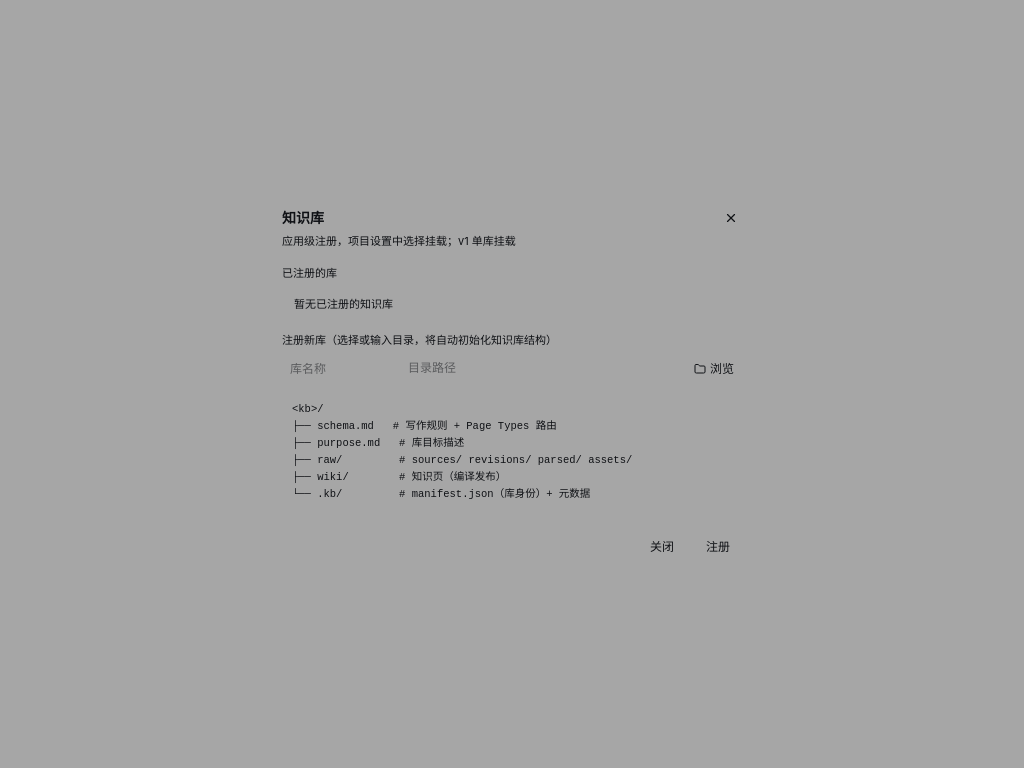
Test: KbModal › re-registers as copy with asCopy: true when clicking the hint entry
Type "副本库" into the field with placeholder "库名称".
click(338, 369); type("副本库")  # box [282,355,394,383]
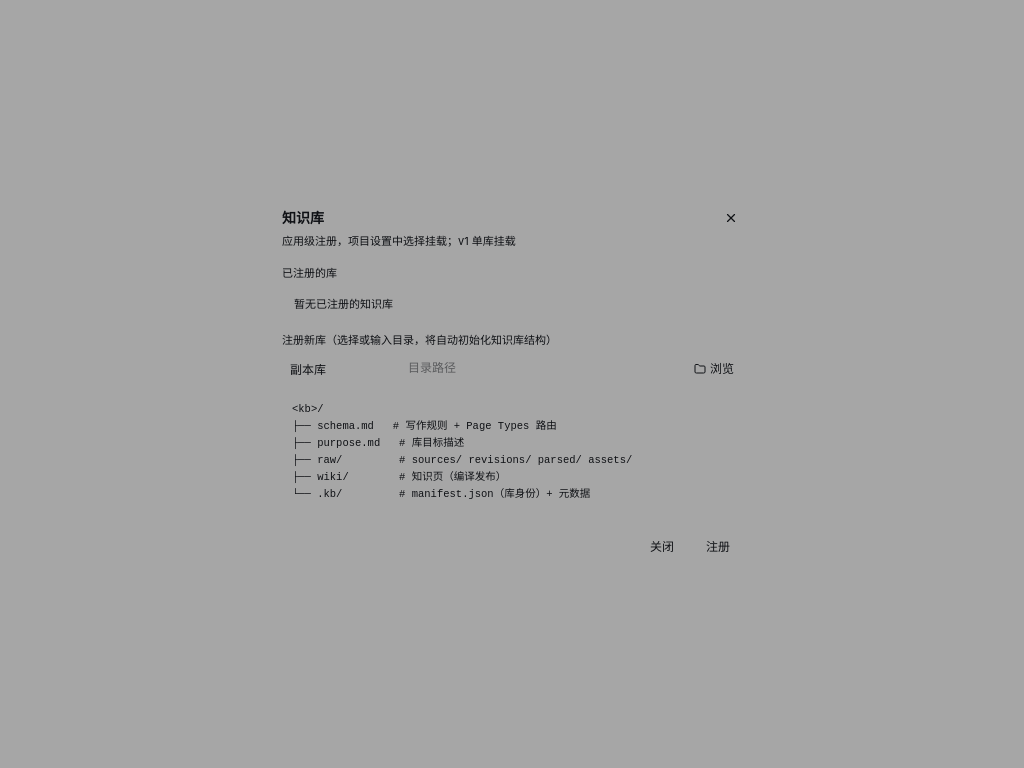
Type "E:\\copy\\kb" into the field with placeholder "目录路径".
click(540, 369); type("E:\\copy\\kb")  # box [400,355,680,383]
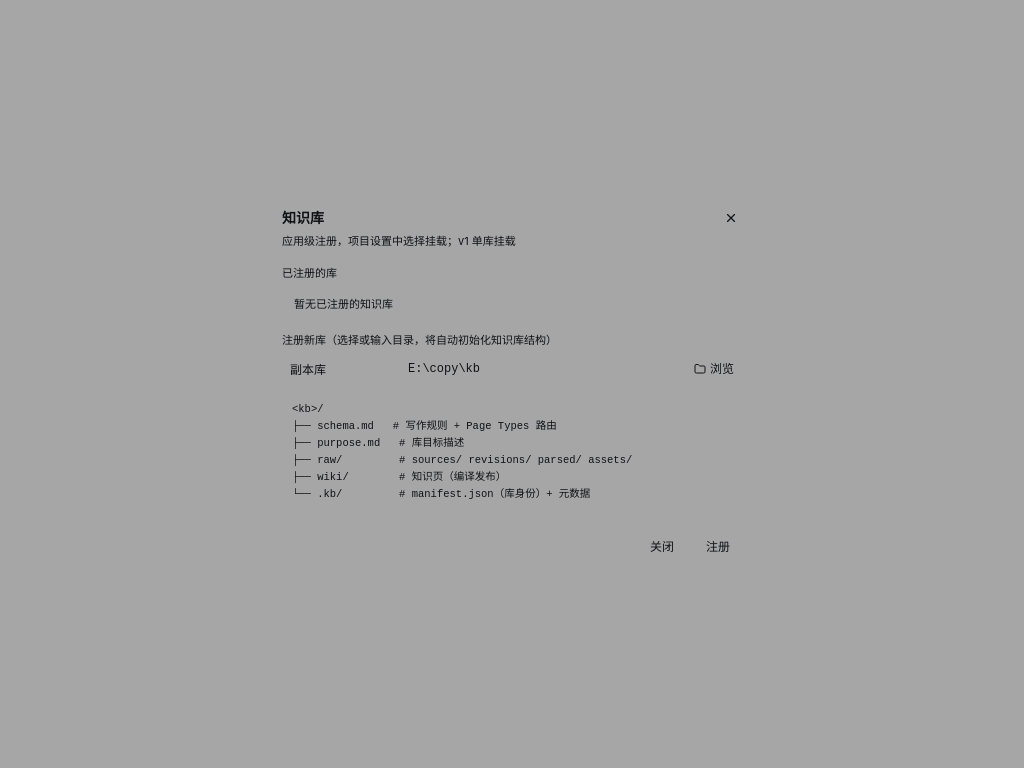
Click the button "注册".
click(718, 547)  # box [694,533,742,561]
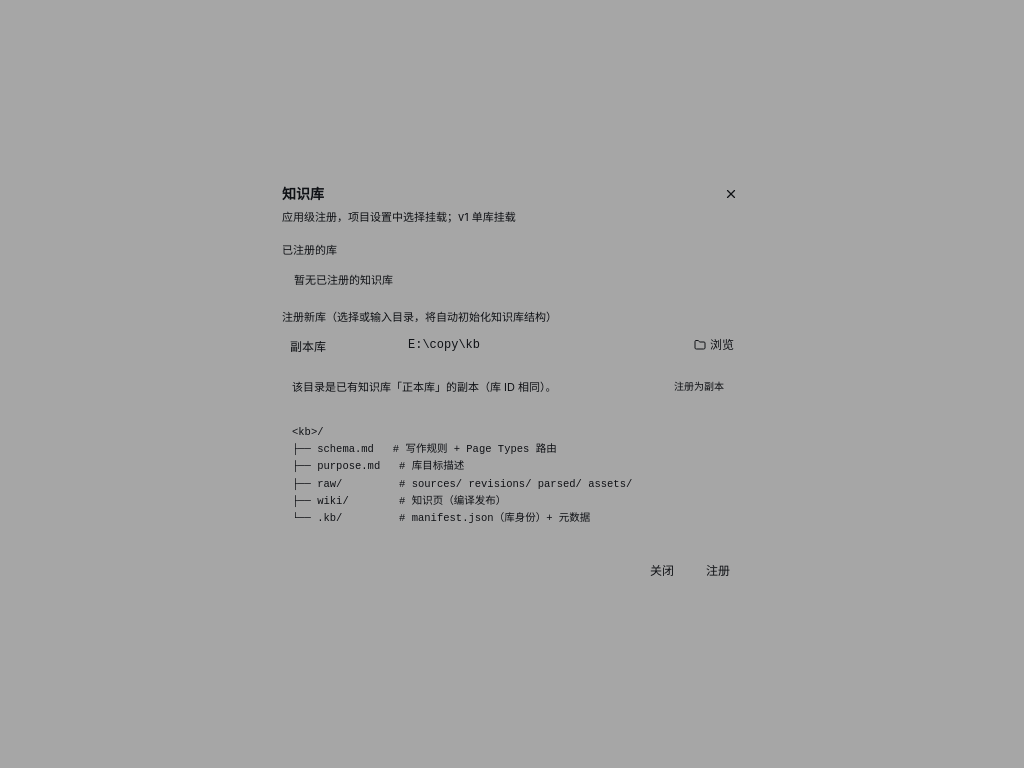
expect the button "注册为副本" is shown: met
Click the button "注册为副本".
click(699, 387)  # box [666,375,732,398]
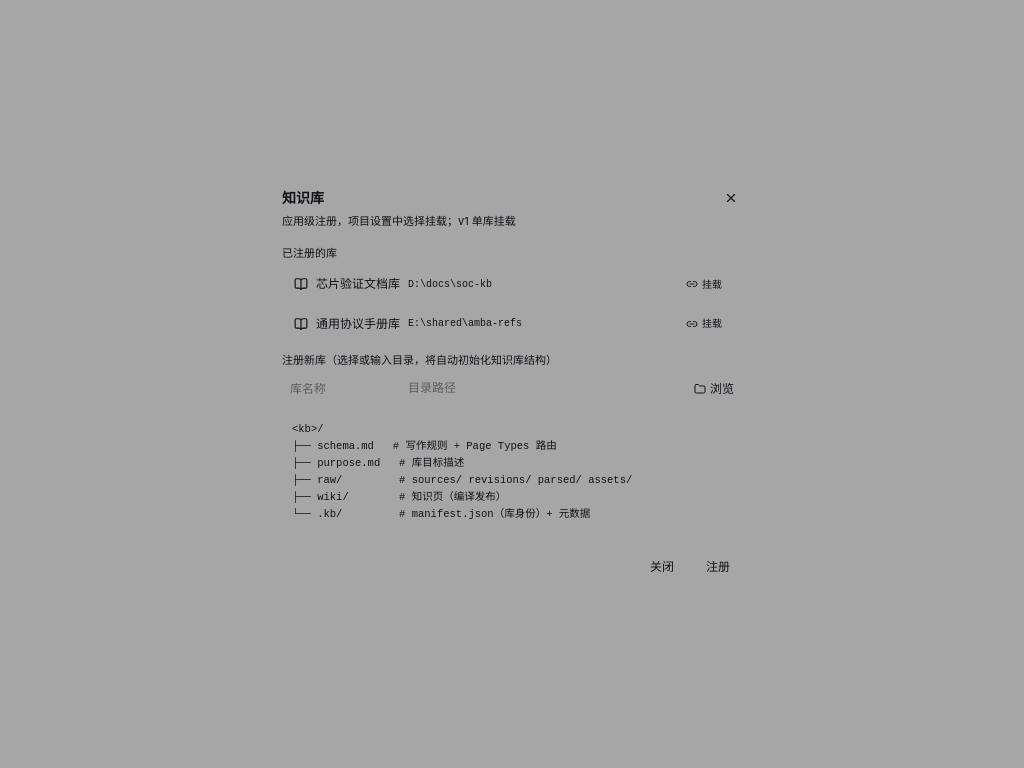
expect the button "注册为副本" is gone: met
